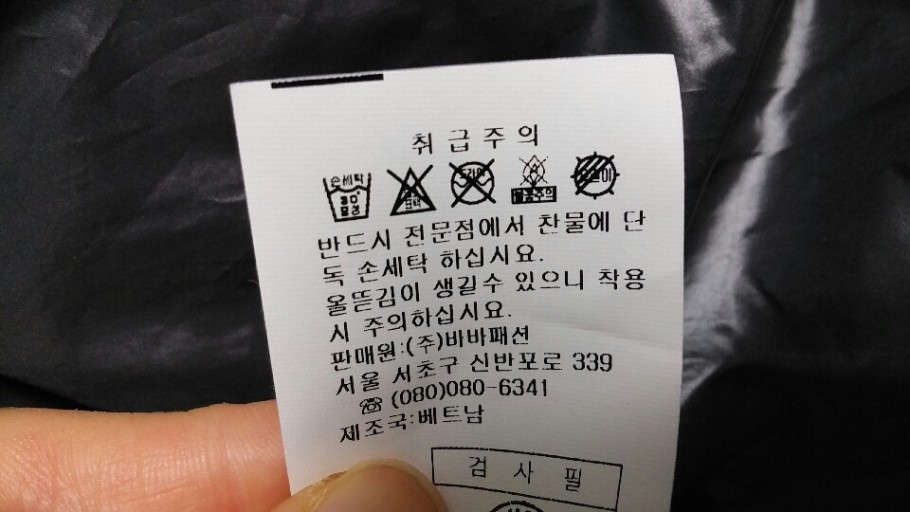KR_hand_wash_30_neutral: (319, 169, 375, 226)
KR_hang_dry_in_shade: (571, 152, 621, 201)
KR_no_chlorine_bleach: (380, 160, 440, 217)
KR_no_dry_clean: (449, 156, 497, 212)
